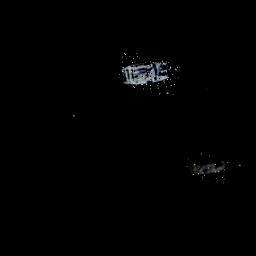boat: (115, 50, 182, 98), (185, 151, 230, 184)
